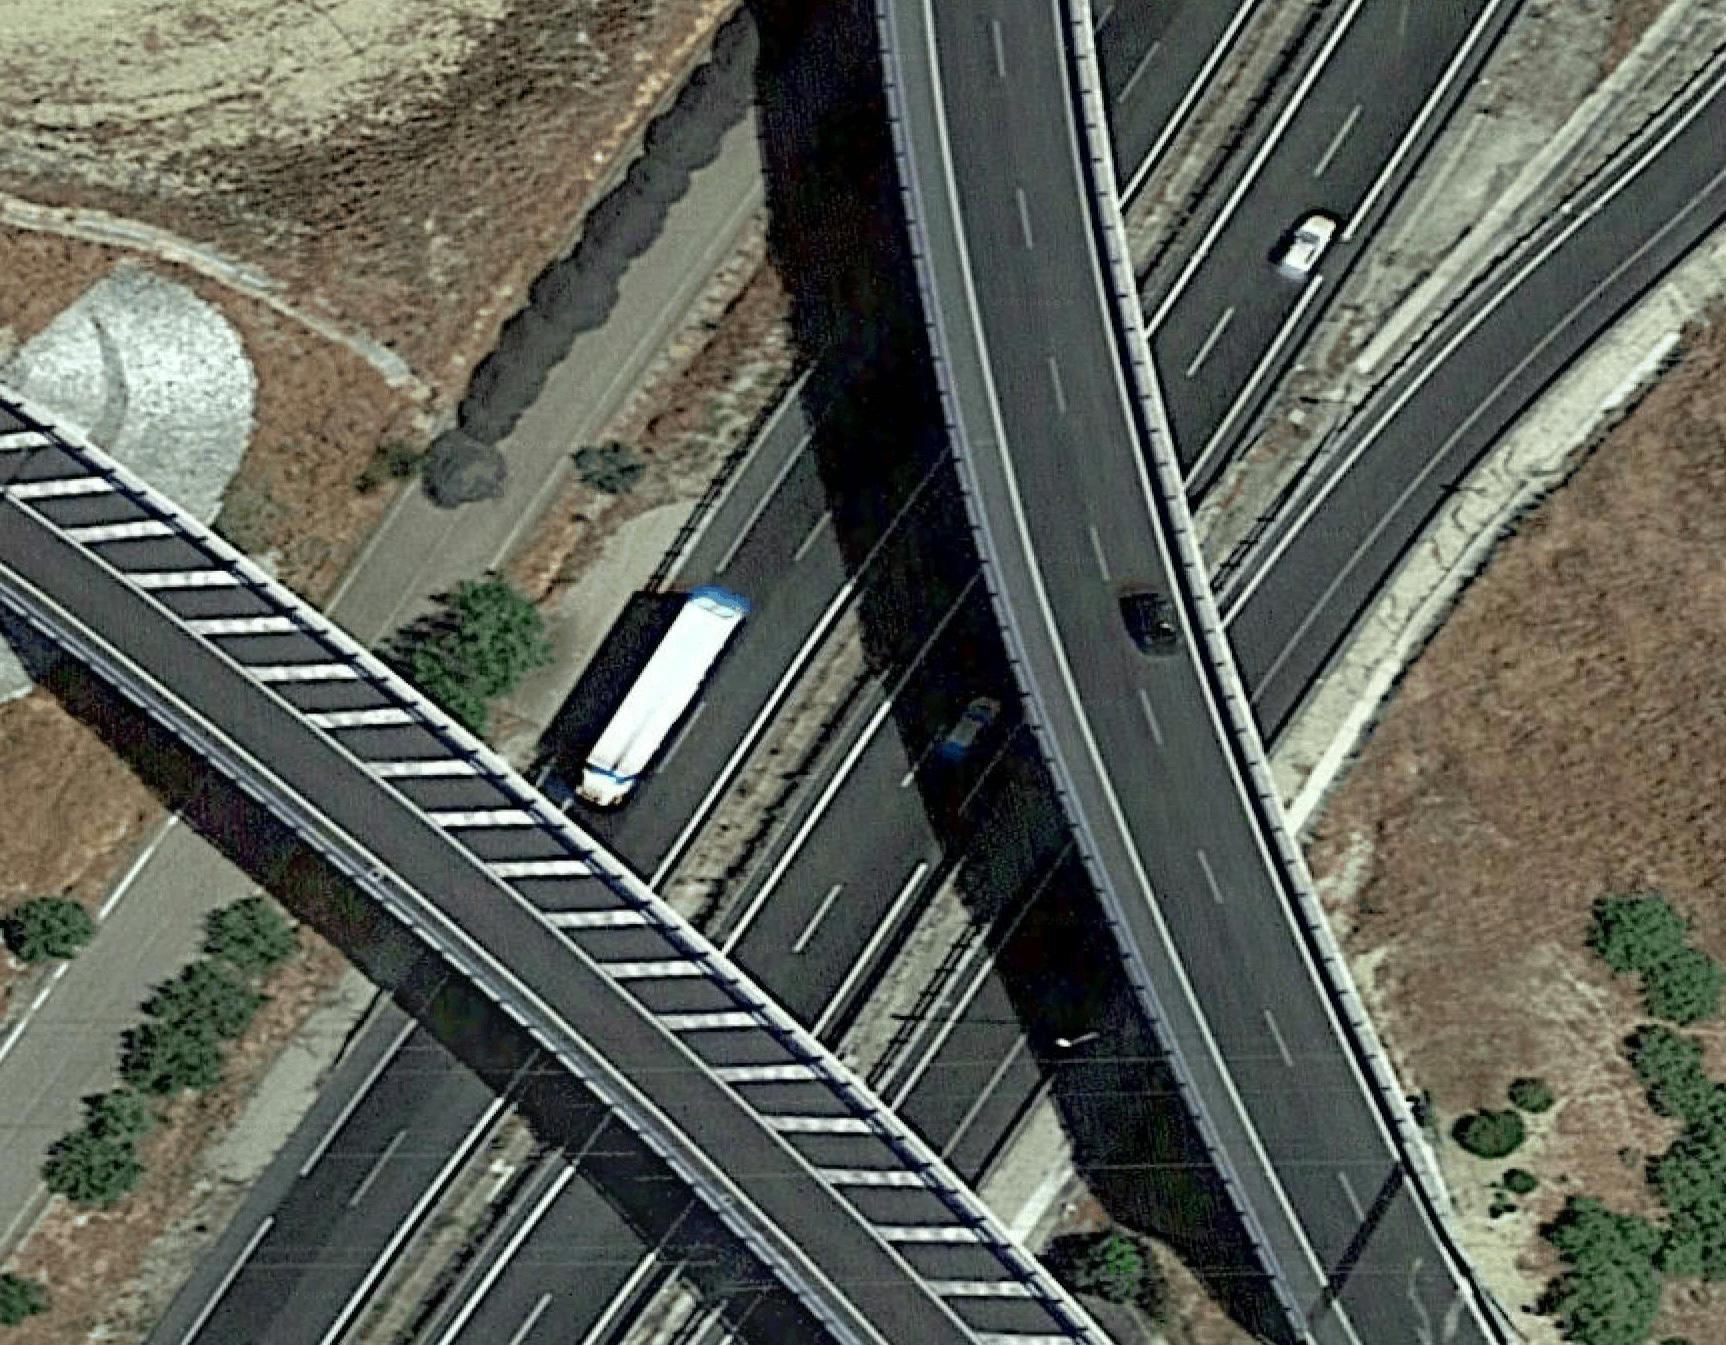bridge: (62, 403, 1017, 1325), (814, 74, 1477, 949)
large-vehicle: (560, 576, 752, 821)
